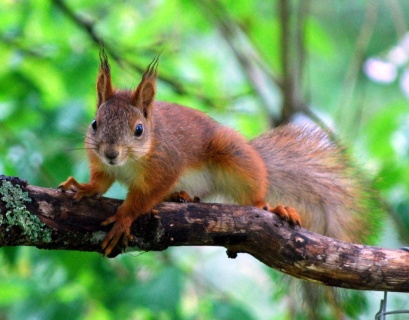Squirrel: (41, 37, 389, 317)
